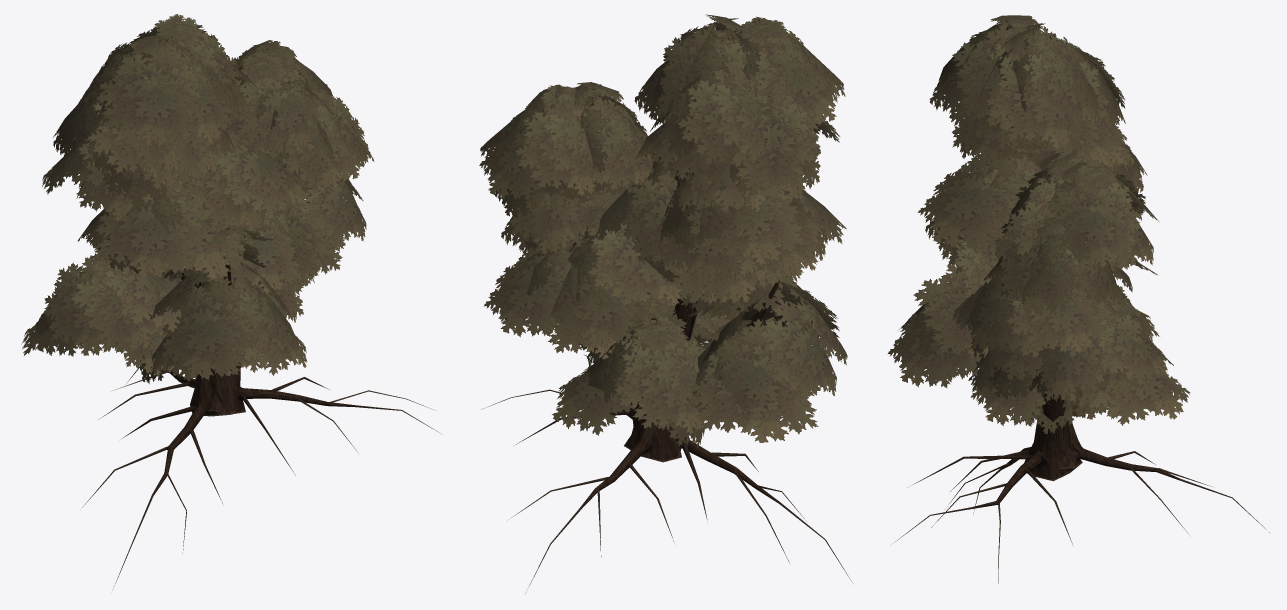
Rendered from Tree_05.fbx.
The picture shows the model from 3 angles, left to right: view 1: azimuth 30°, elevation 25°; view 2: azimuth 150°, elevation 25°; view 3: azimuth 270°, elevation 25°; orthographic projection. The views are drawn at different scales.
Visible parts, largest first — view 1: Tree_05_LOD0; view 2: Tree_05_LOD0; view 3: Tree_05_LOD0.
Boxes of the visible parts, left/top/right/bottom form: Tree_05_LOD0: left=21, top=14, right=440, bottom=590; Tree_05_LOD0: left=479, top=14, right=852, bottom=585; Tree_05_LOD0: left=888, top=15, right=1269, bottom=583.
Size of what is drawn, in the model's own units: 424 by 571 by 372.
